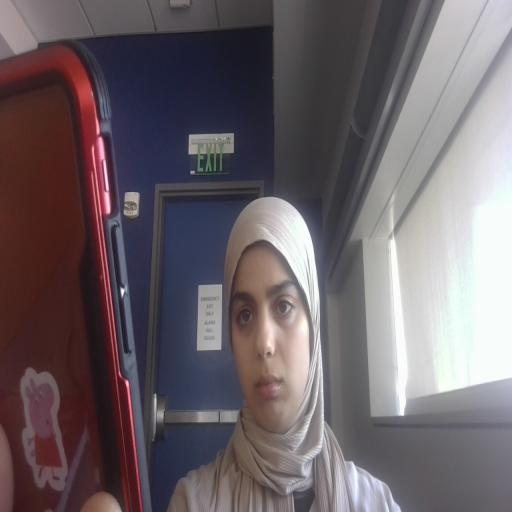phone: (0, 33, 172, 512)
